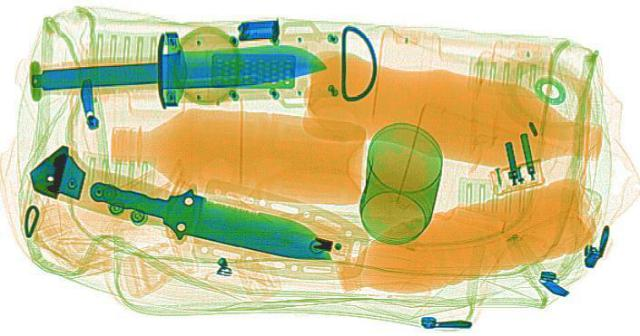Knife: (64, 163, 360, 274), (18, 21, 340, 116)
